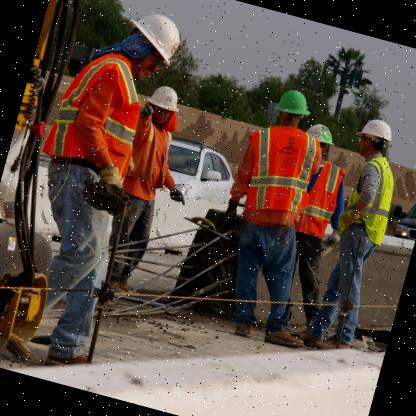capacete: (110, 2, 188, 90), (267, 82, 317, 136), (348, 112, 398, 166), (137, 80, 187, 134), (299, 118, 342, 161)
colete_refletivo: (34, 40, 156, 192), (228, 113, 328, 228), (336, 148, 407, 250), (284, 154, 356, 244)
sem_colete_refletivo: (114, 113, 186, 206)
